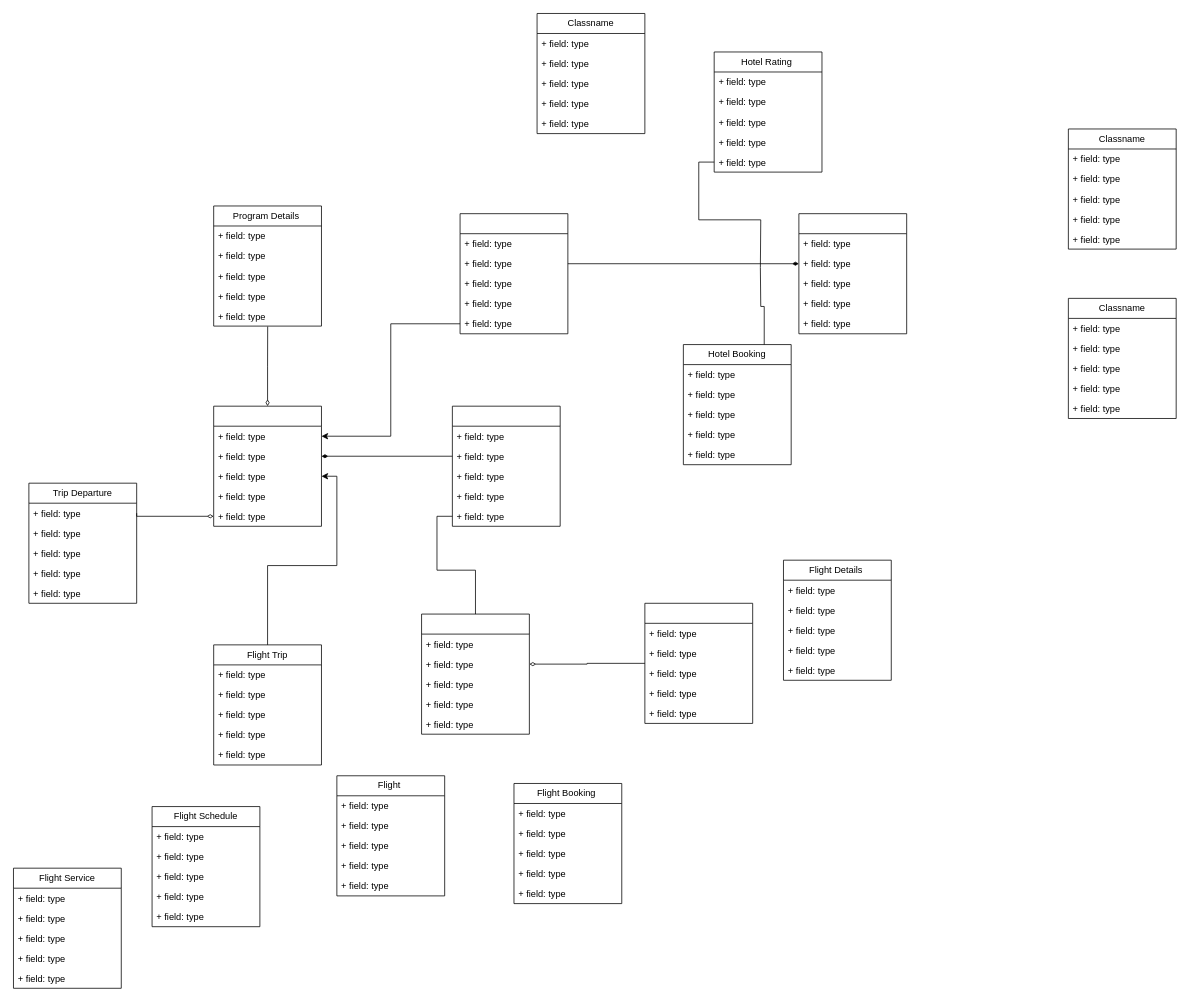
The diagram is 1190 pixels wide and 1004 high, and some of its shapes have lost their labels. The box of each missing label's shape, as (x1, y1, x2, y2) in pixels:
Customer: (421, 613, 529, 734)
Hotel: (798, 213, 907, 334)
Hotel Trip: (459, 213, 568, 334)
Payment: (644, 603, 753, 723)
Reservation: (452, 405, 560, 526)
Trip: (213, 405, 321, 526)
